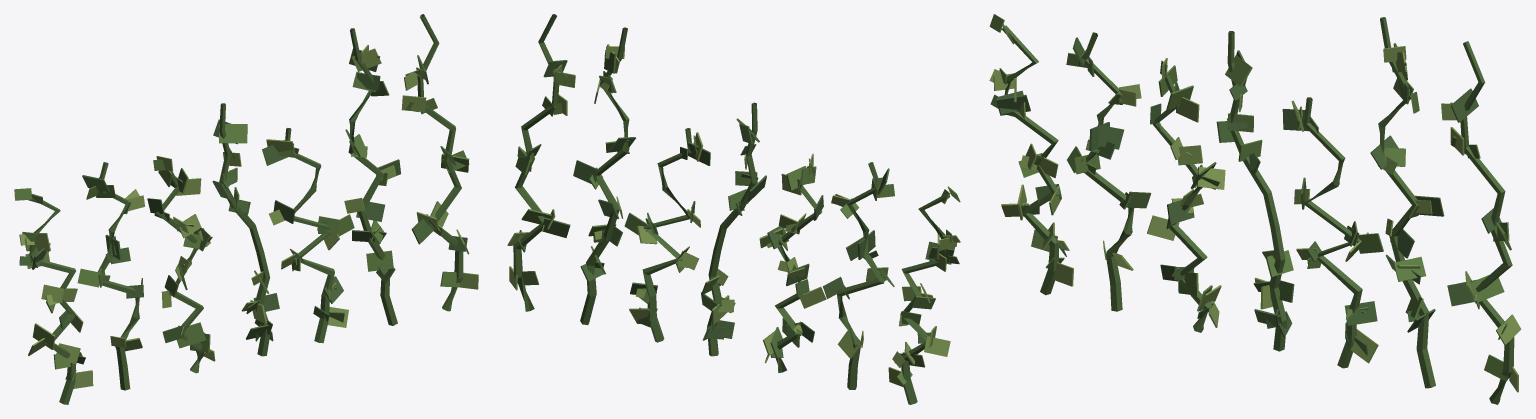
File: VN_WallCreeper.glb
3 views of the same model, side by side, from view 1: azimuth 30°, elevation 25°; view 2: azimuth 150°, elevation 25°; view 3: azimuth 330°, elevation 25° (orthographic). The views are drawn at different scales.
Parts seen in each view (by area): view 1: VN_WallCreeper; view 2: VN_WallCreeper; view 3: VN_WallCreeper.
Part boxes in pixels (bbox=[...]): VN_WallCreeper: bbox=[14, 14, 478, 404]; VN_WallCreeper: bbox=[507, 14, 960, 404]; VN_WallCreeper: bbox=[989, 14, 1521, 404].
Size of the model in its own units: 4.05 by 2.59 by 0.2748.
